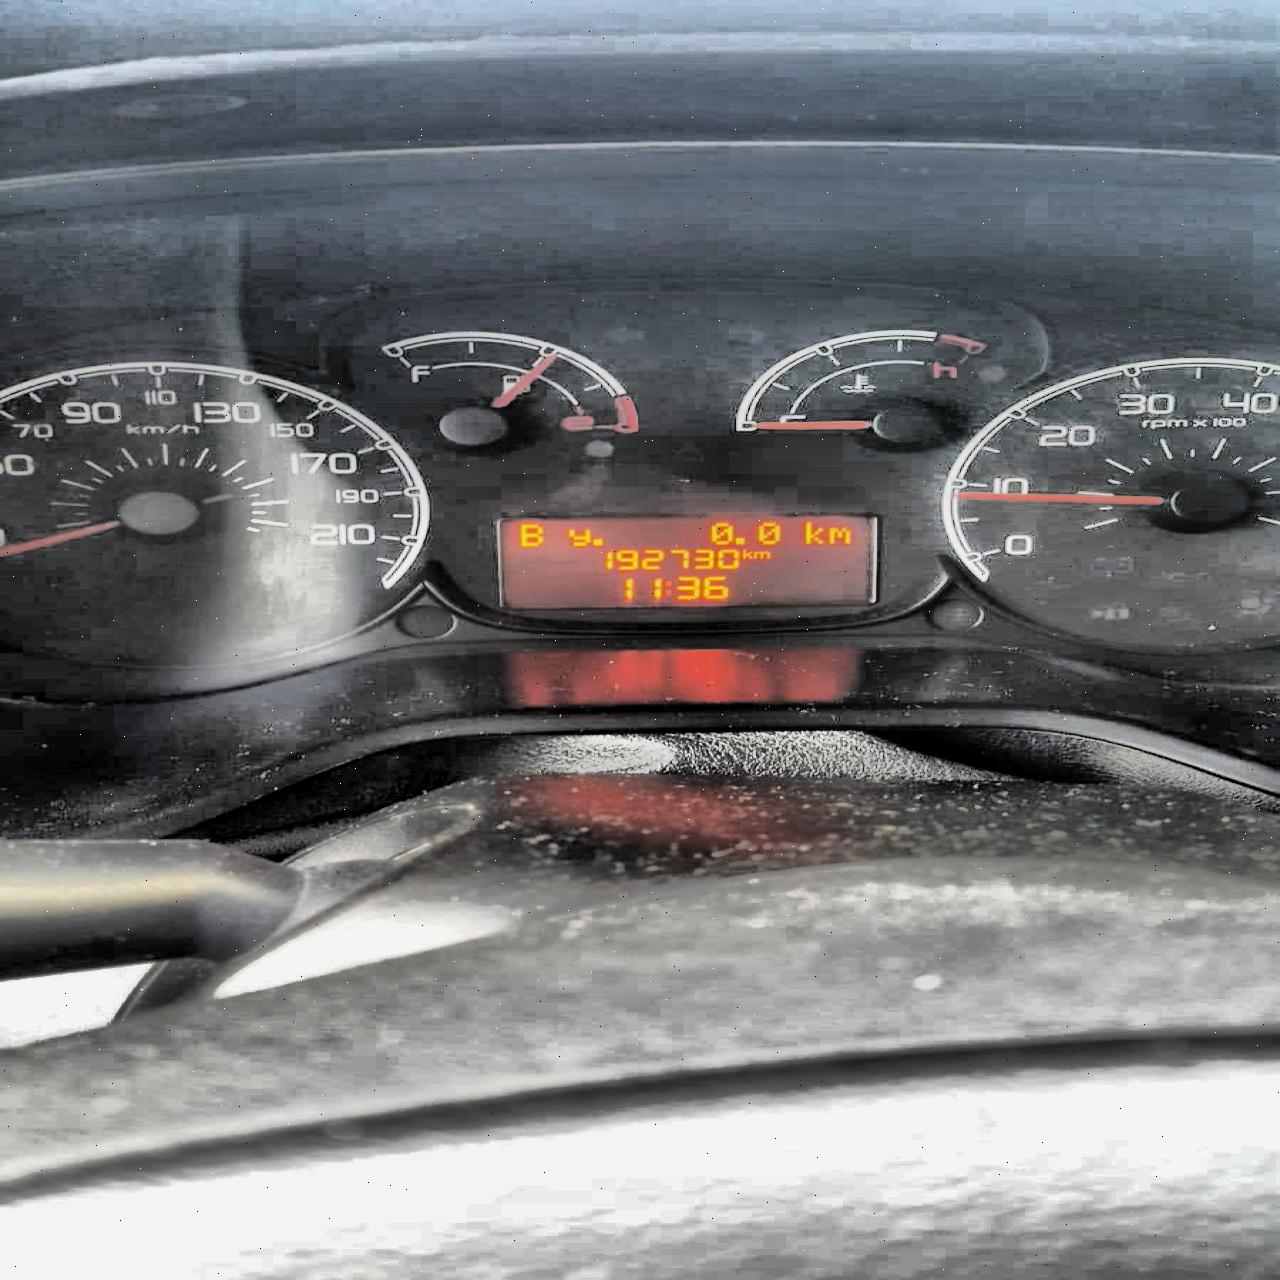0: (709, 520, 733, 545), (757, 522, 781, 544), (716, 549, 741, 568)
1: (621, 577, 636, 600), (647, 577, 660, 599), (602, 549, 615, 568)
2: (639, 549, 662, 570)
3: (675, 576, 699, 601), (692, 549, 712, 568)
6: (703, 574, 730, 599)
7: (667, 547, 690, 570)
9: (617, 549, 635, 571)
X: (517, 522, 543, 547), (803, 519, 824, 545), (565, 527, 590, 546), (829, 525, 850, 544), (662, 578, 674, 597), (751, 550, 770, 559), (590, 537, 604, 546), (741, 546, 751, 558), (734, 536, 744, 545)
odometer: (496, 517, 876, 605)
